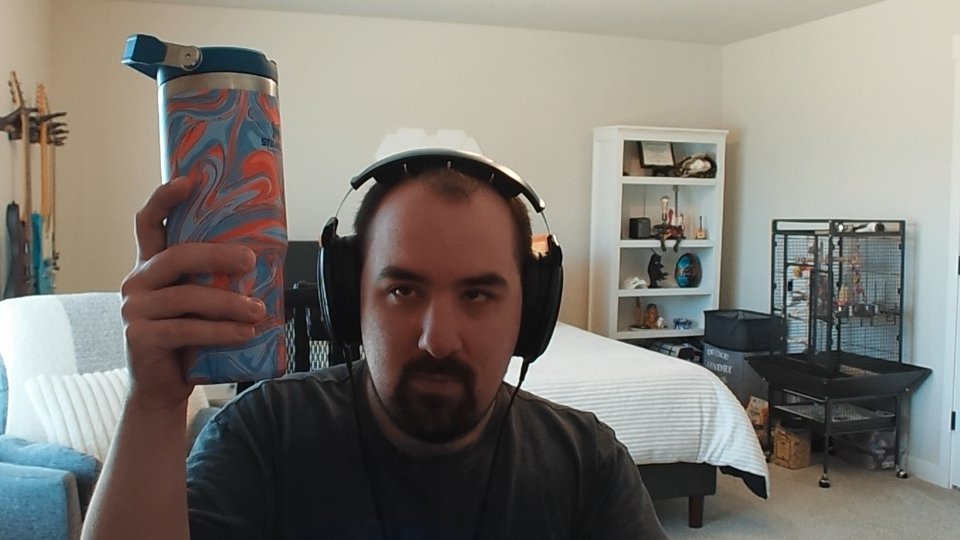StanleyCup: (121, 33, 290, 384)
